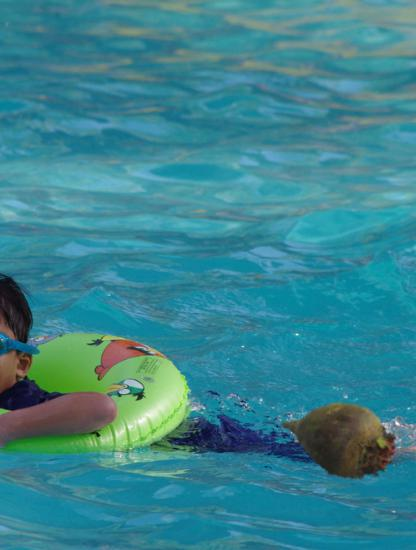Beetroot: (278, 376, 405, 503)
